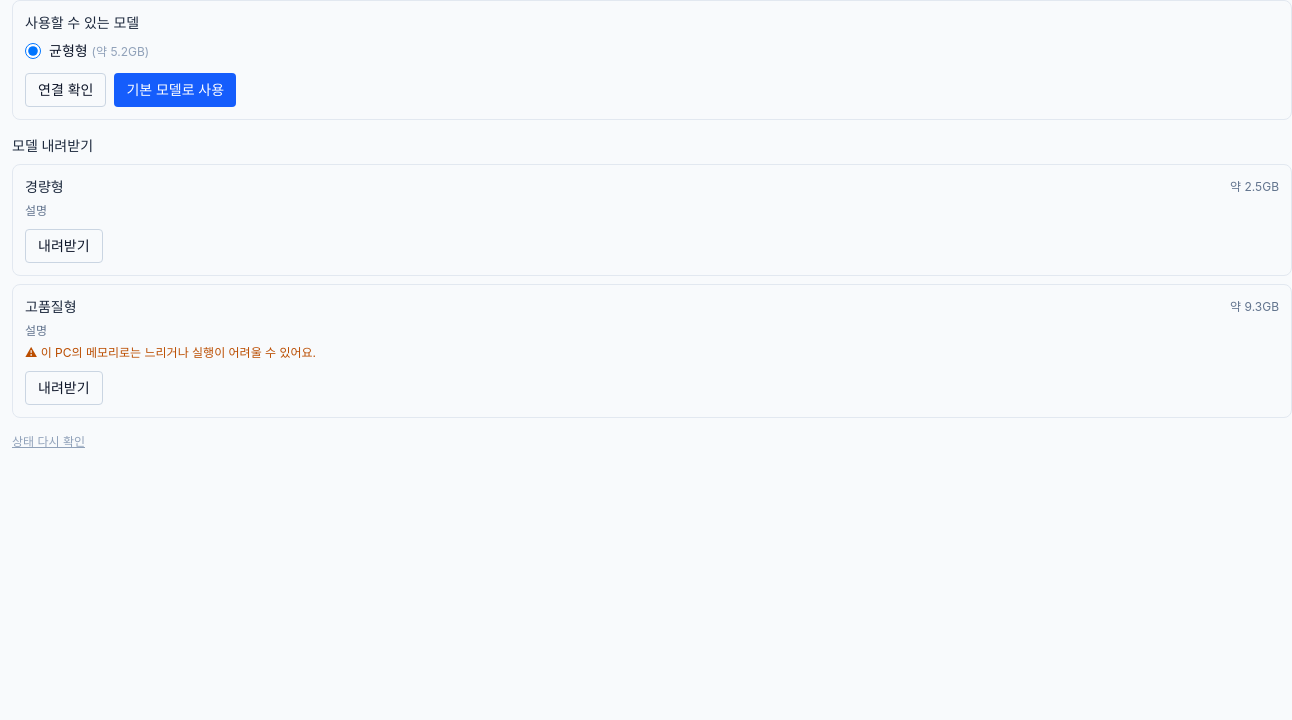
Test case: LocalAiSection › 외부 설정 충돌이 아닌 409는 덮어쓰기 확인창을 열지 않는다
Click the button "기본 모델로 사용" at [175, 90], box [114, 73, 236, 107]
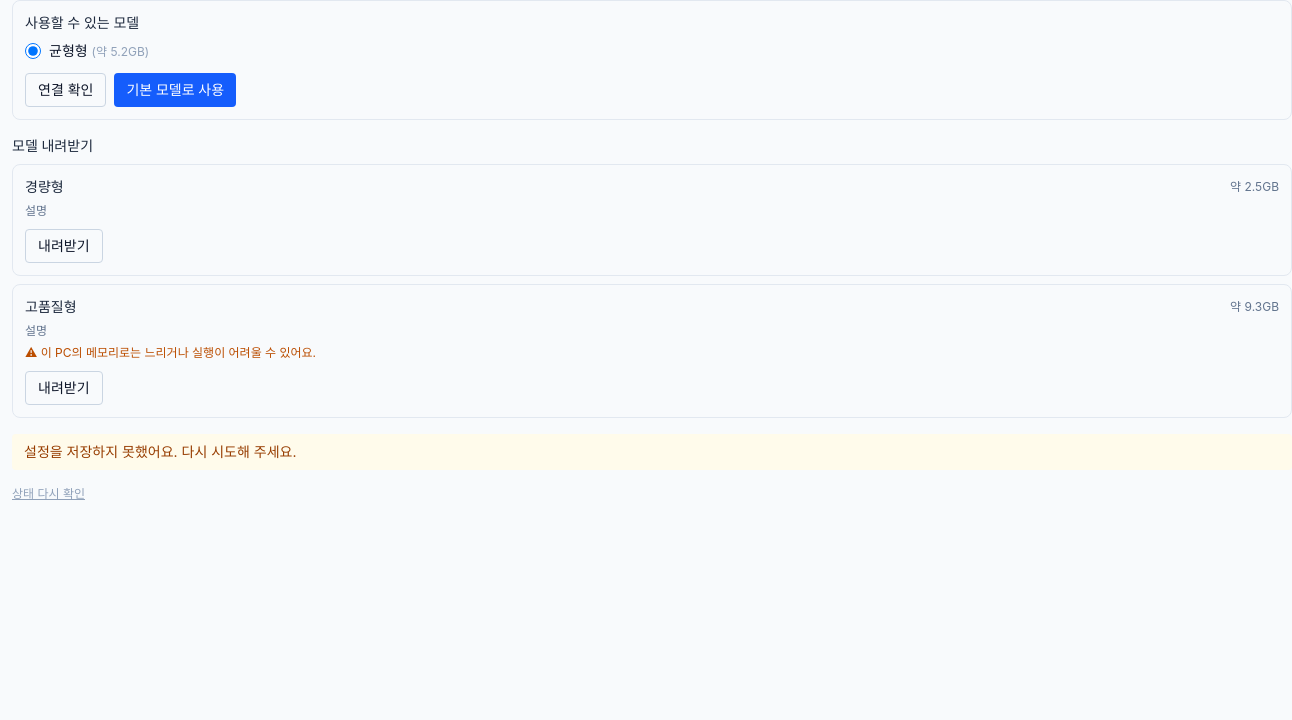
Now the text "설정을 저장하지 못했어요. 다시 시도해 주세요." is shown, box [12, 434, 1291, 470]
